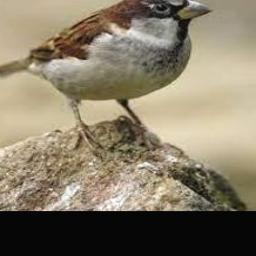Sparrow: (0, 0, 214, 151)
